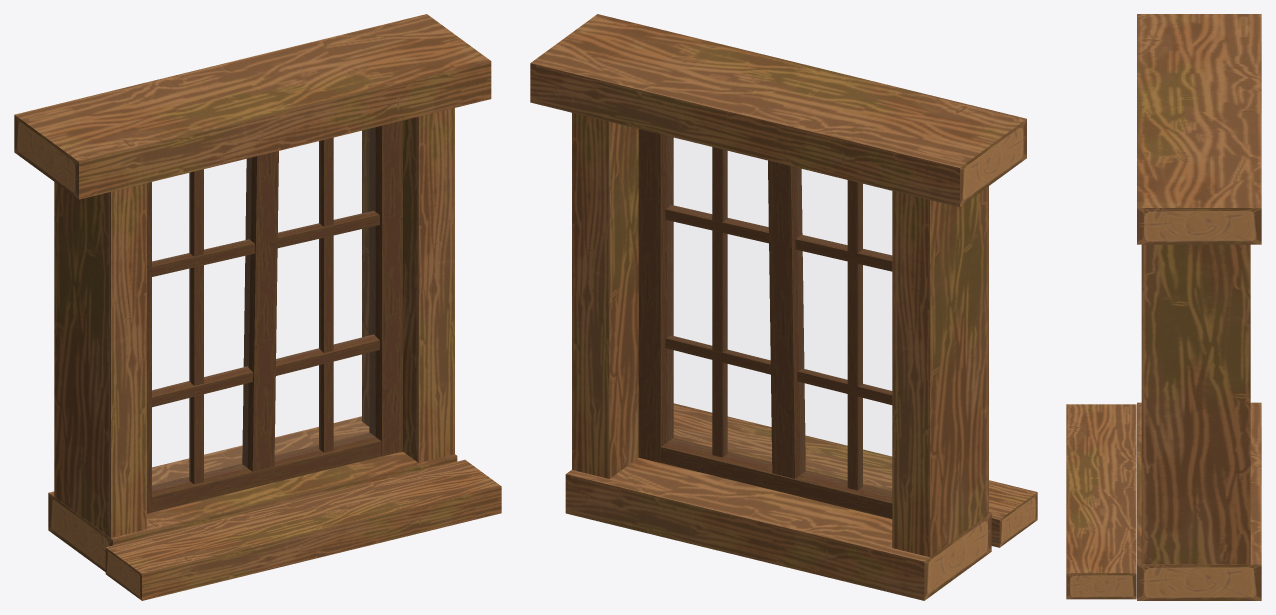
The model's file is Window_Wide_Flat1.gltf.
3 renders of one model, left to right at view 1: azimuth 30°, elevation 25°; view 2: azimuth 150°, elevation 25°; view 3: azimuth 270°, elevation 25°, orthographic. The views are drawn at different scales.
Parts seen in each view (by area): view 1: Window_Wide_Flat1; view 2: Window_Wide_Flat1; view 3: Window_Wide_Flat1.
Boxes of the visible parts, bbox=[...] form: Window_Wide_Flat1: bbox=[14, 14, 501, 600]; Window_Wide_Flat1: bbox=[530, 14, 1037, 600]; Window_Wide_Flat1: bbox=[1066, 14, 1261, 600].
Bounding box in the file's own units: 1.61 × 1.58 × 0.6834.
2 materials, 1 textured.
